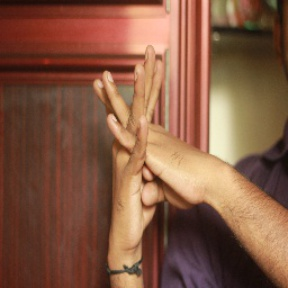W: (81, 41, 207, 223)
